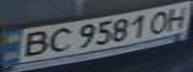1: (127, 11, 151, 38)
5: (93, 18, 115, 46)
8: (112, 16, 133, 43)
9: (75, 20, 100, 50)
B: (12, 28, 54, 60)
C: (42, 25, 75, 54)
H: (160, 3, 193, 30)
O: (145, 7, 175, 34)
